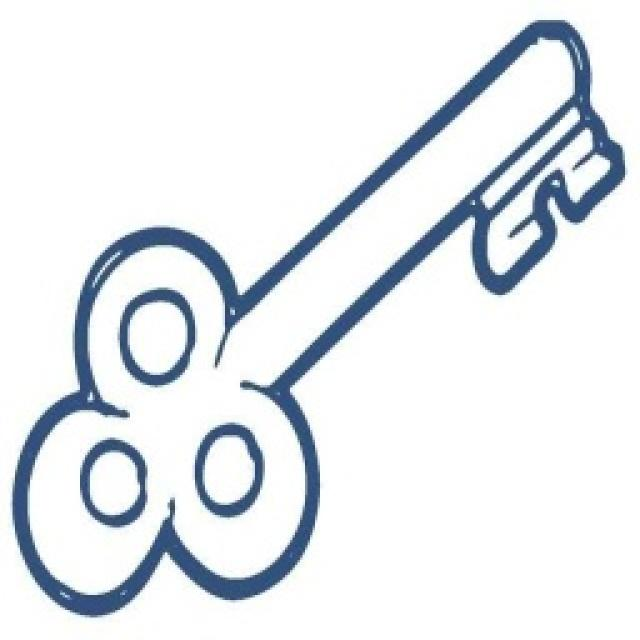anahtar: (9, 14, 630, 630)
